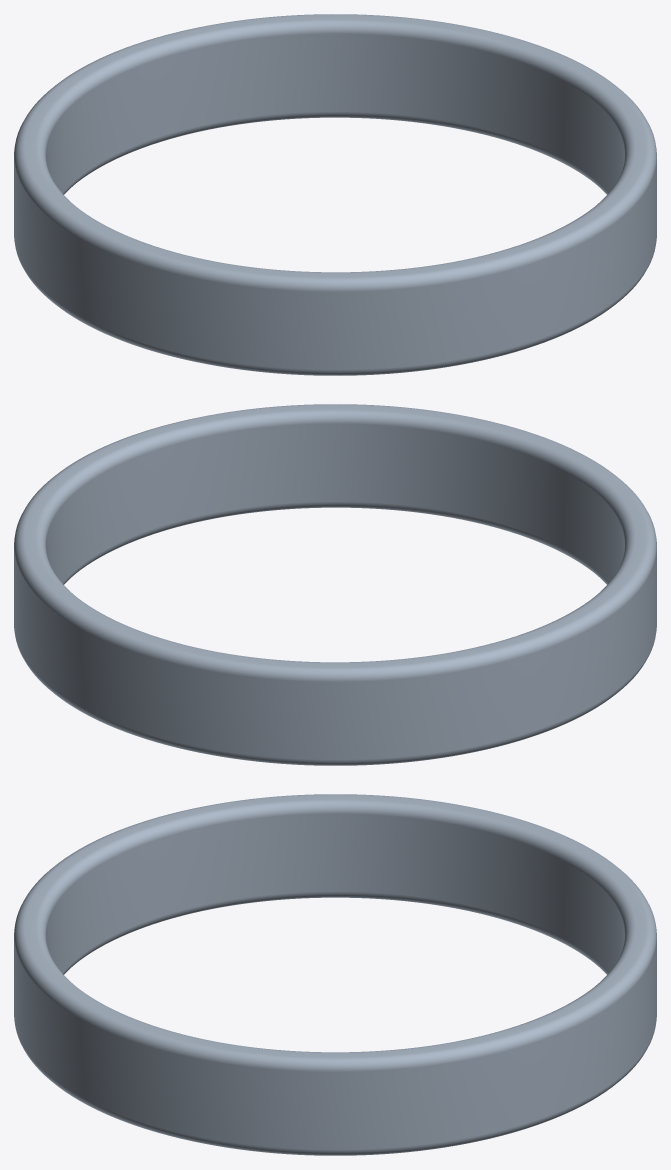
File: SM_Anneau.obj
The picture shows the model from 3 angles, top to bottom: view 1: azimuth 30°, elevation 25°; view 2: azimuth 150°, elevation 25°; view 3: azimuth 270°, elevation 25°; orthographic projection.
Size of the model in its own units: 60000 by 10000 by 60000.
